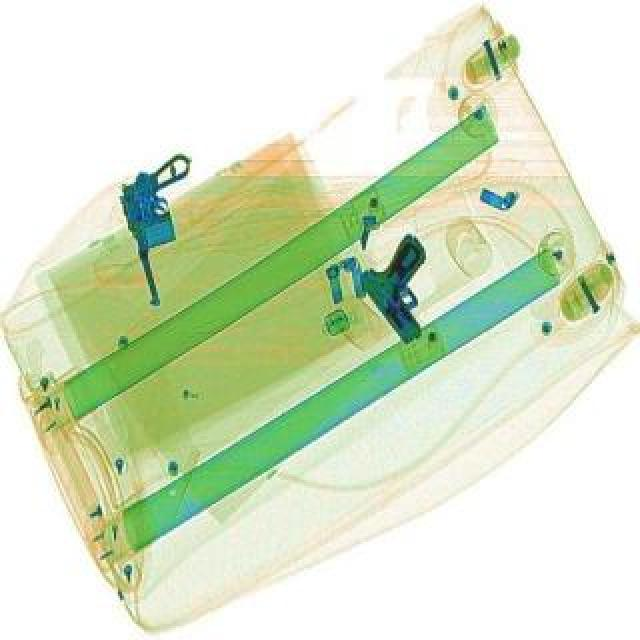gun: (112, 154, 222, 312), (346, 234, 470, 350)
